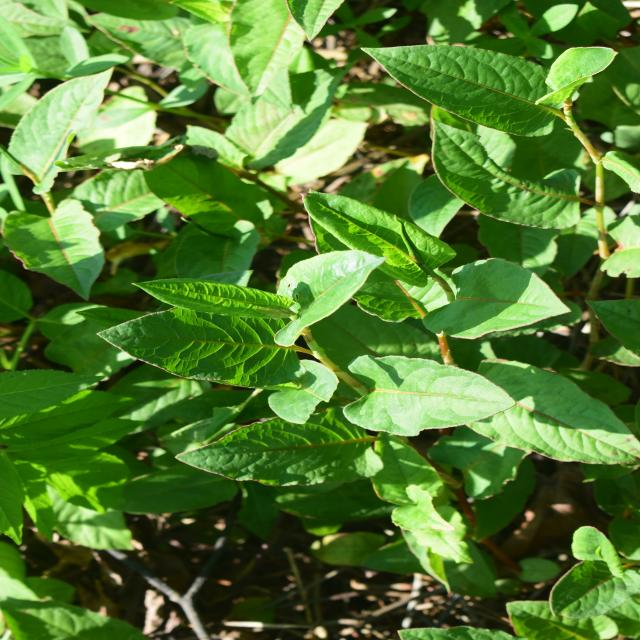Chinese_knotweed: (153, 126, 420, 542), (430, 405, 610, 622)
